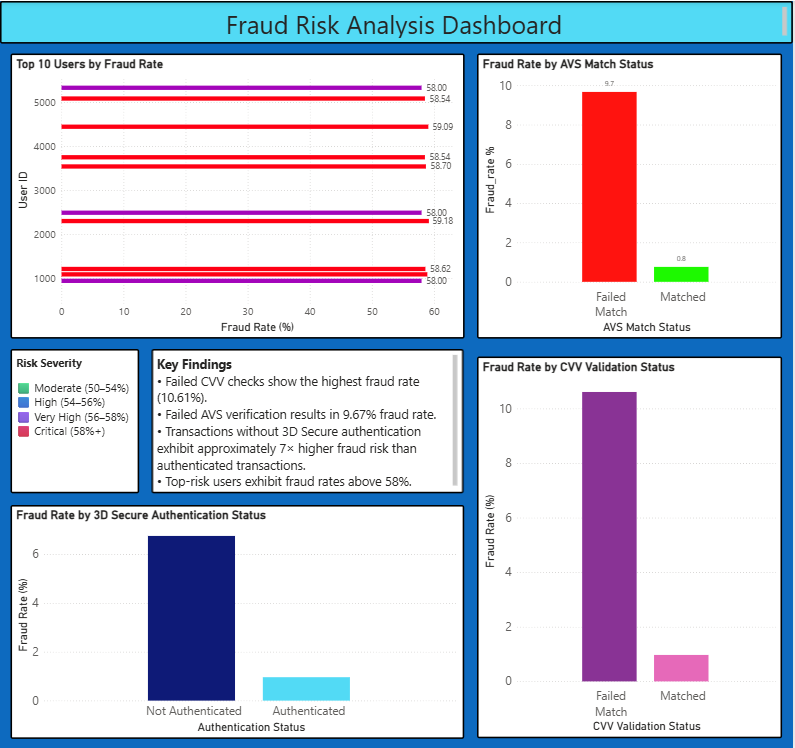

The page's visual inventory and layout, read from the dashboard file:
{"tool":"powerbi","page":{"name":"Page 2","canvas":[1351,1280],"ordinal":1},"visuals":[{"type":"textbox","box":[0,0,1351.5,72.7],"z":0},{"type":"clusteredColumnChart","title":"Fraud Rate by AVS Match Status","fields":{"Category":["avs_analysis.AVS Status"],"Y":["Avg(avs_analysis.fraud_rate)"]},"box":[812.3,89.2,520,486.2],"z":1000},{"type":"clusteredColumnChart","title":"Fraud Rate by CVV Validation Status","fields":{"Category":["cvv_analysis.CVV Status"],"Y":["Avg(cvv_analysis.fraud_rate)"]},"box":[812.3,606.2,520,650.8],"z":2000},{"type":"clusteredColumnChart","title":"Fraud Rate by 3D Secure Authentication Status","fields":{"Category":["three_ds_analysis.3DS Status"],"Y":["Avg(three_ds_analysis.fraud_rate)"]},"box":[17.5,858.7,773,398.4],"z":3000},{"type":"clusteredBarChart","title":"Top 10 Users by Fraud Rate","fields":{"Category":["user_risk_profile.user_id"],"Y":["Avg(user_risk_profile.fraud_rate)"]},"box":[16.9,89.2,773.8,486.2],"z":4000},{"type":"textbox","box":[17.5,592.1,219,246],"z":5000},{"type":"textbox","box":[258.7,592.1,531.7,246],"z":6000}]}

Visuals, with their boxes in screenshot pixels (x1, y1, x2, y2), scaled from the page's 1351x1280 canvas onto the 795x748 screenshot:
textbox: rect(0, 0, 794, 42)
"Fraud Rate by AVS Match Status" clusteredColumnChart: rect(478, 52, 784, 336)
"Fraud Rate by CVV Validation Status" clusteredColumnChart: rect(478, 354, 784, 735)
"Fraud Rate by 3D Secure Authentication Status" clusteredColumnChart: rect(10, 502, 465, 735)
"Top 10 Users by Fraud Rate" clusteredBarChart: rect(10, 52, 465, 336)
textbox: rect(10, 346, 139, 490)
textbox: rect(152, 346, 465, 490)
